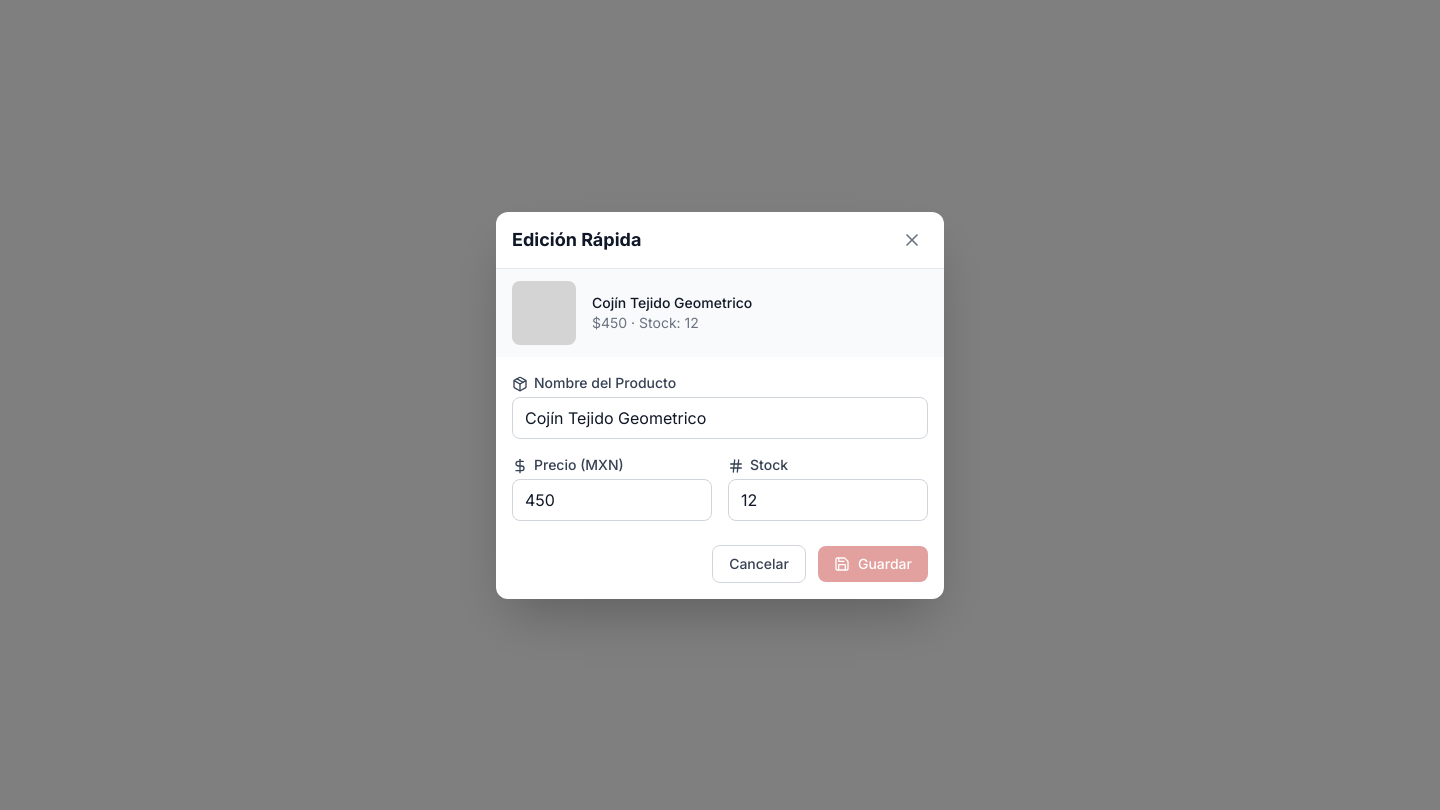
Test: QuickEditModal › validation › should show error when price is zero or negative
This screenshot has width=1440, height=810.
Replace the text in the number field labelled "Precio (MXN)" with "0" at [612, 500], box left=512, top=478, right=712, bottom=520
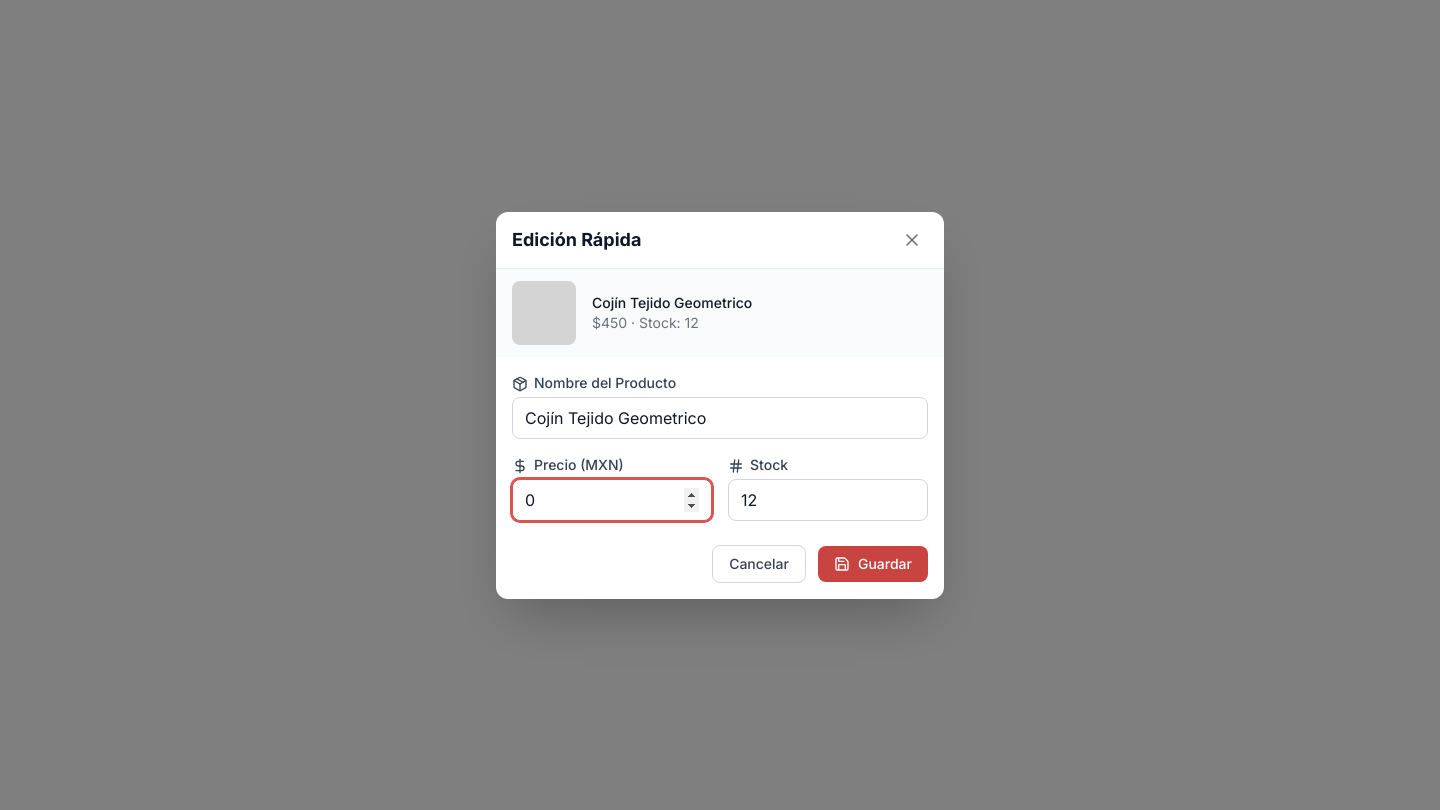
Click the button "Guardar" at [873, 564], box left=818, top=546, right=928, bottom=582
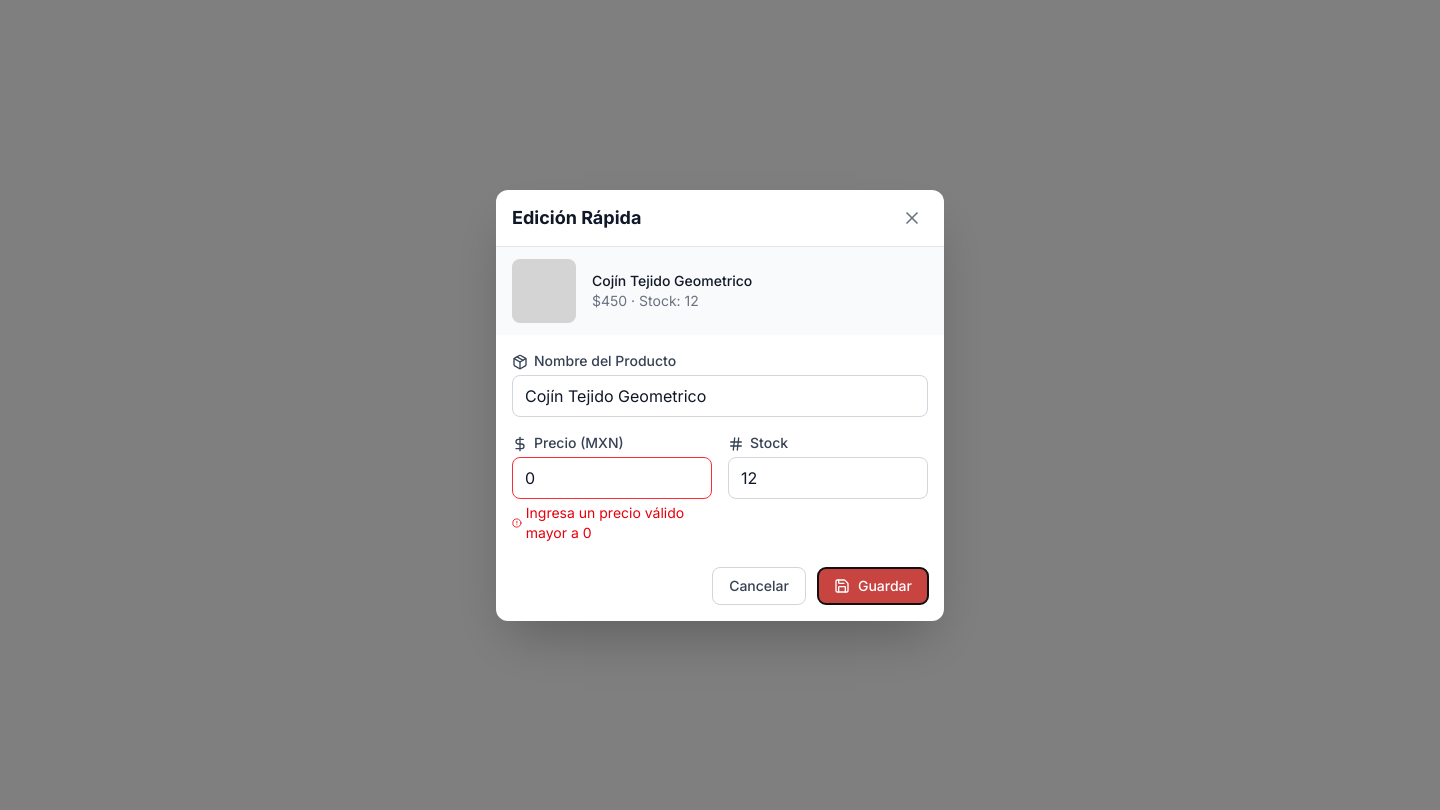
expect the text "Ingresa un precio válido mayor a 0" is shown: met, box left=512, top=502, right=712, bottom=542
